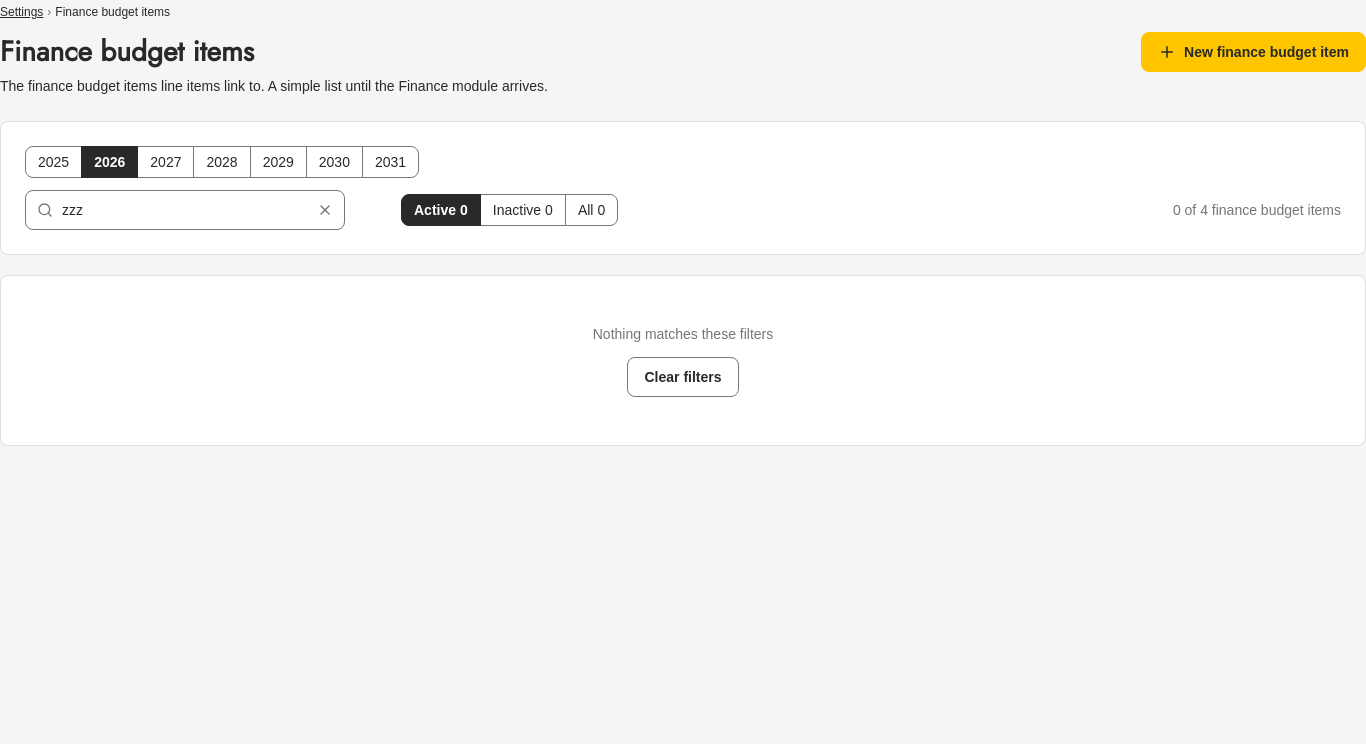
Test: FinanceBudgetItemsPage: the list (FR-014, FR-015) › says when nothing matches the filters, and clears them
Check: the text "Nothing matches these filters" is shown, box [593,324,773,345]
Click the button "Clear filters": [683, 377] box [628,357,738,397]
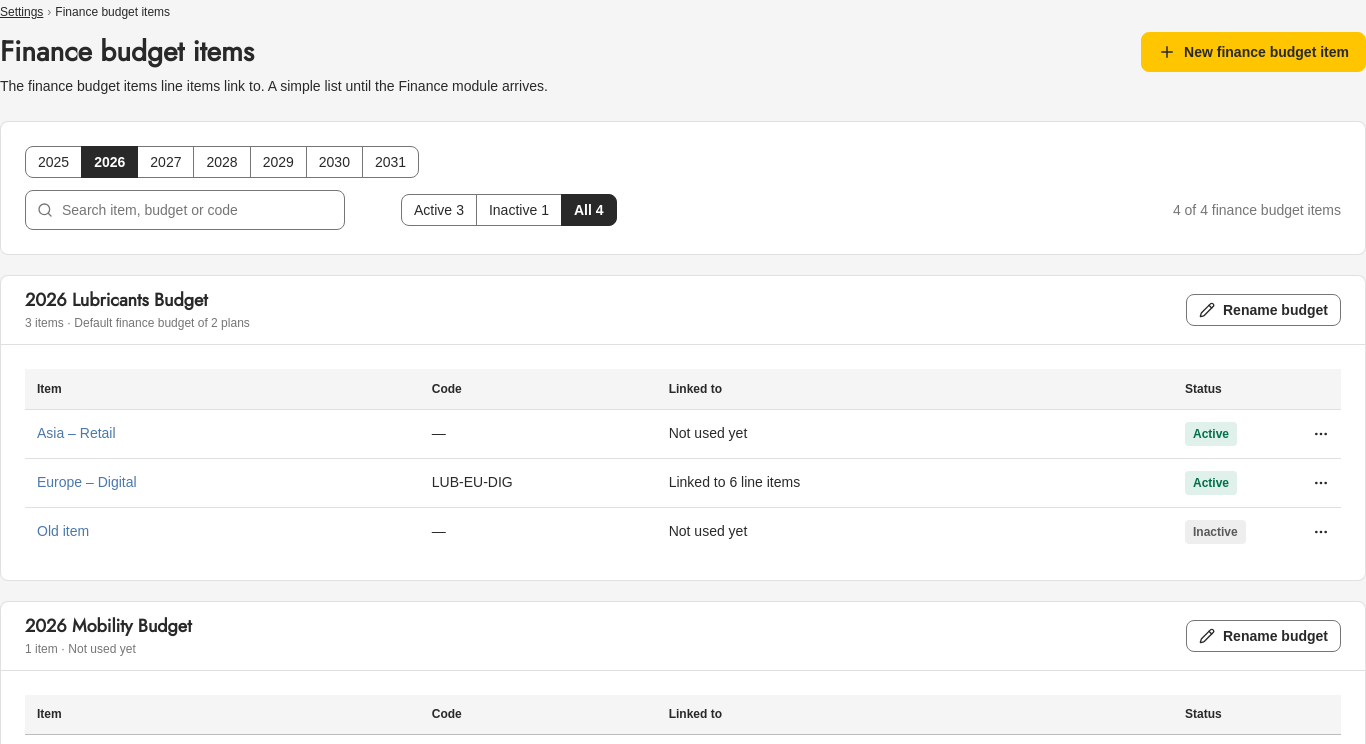
Check: the button "Old item" is shown, box [37,521,89,542]
